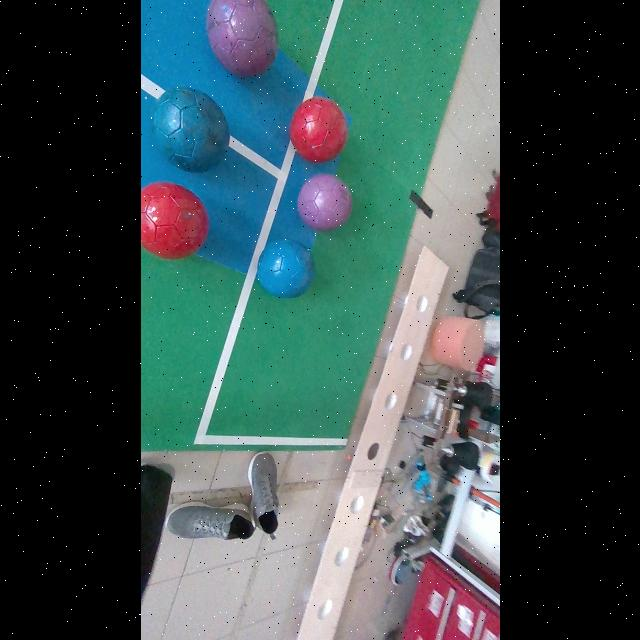B: (151, 87, 228, 173), (256, 241, 314, 298)
P: (206, 0, 278, 76), (297, 174, 352, 232)
R: (140, 182, 209, 259), (290, 97, 348, 163)
